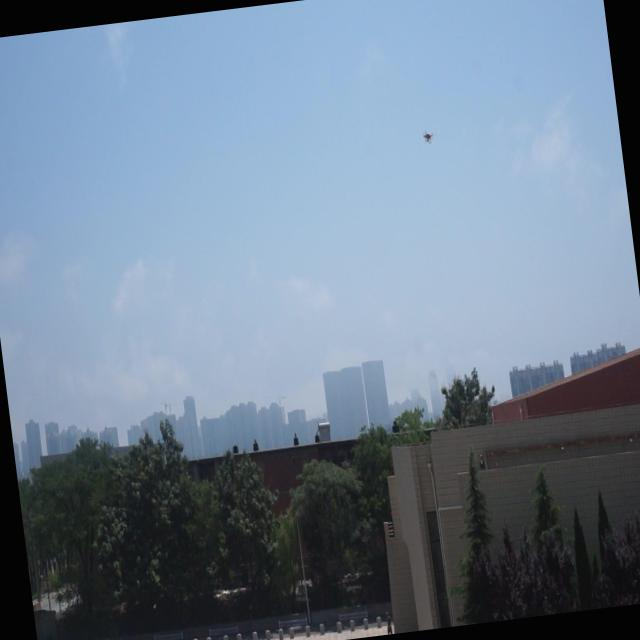drone: (418, 122, 436, 150)
